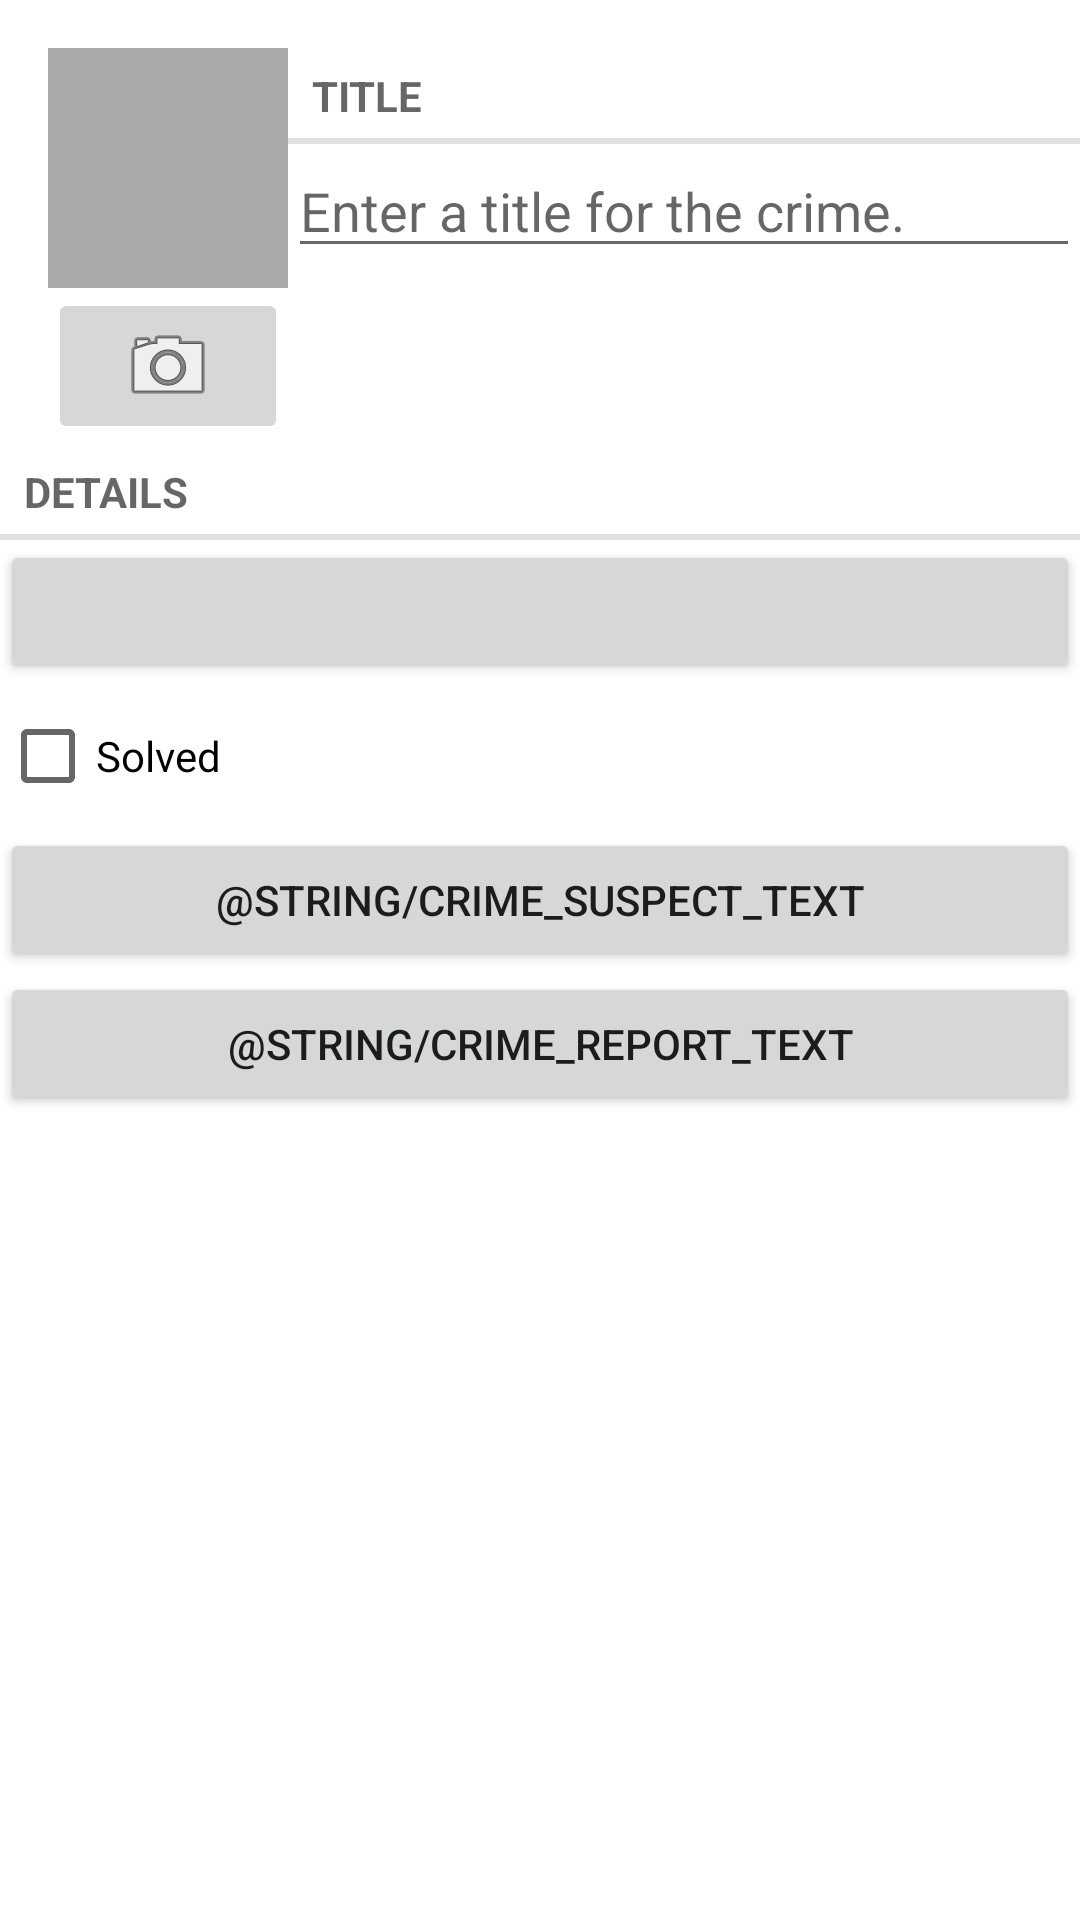

Named icons in this screenshot (1080 × 1920) and their centers, point (x, y):
camera: point (168, 366)
